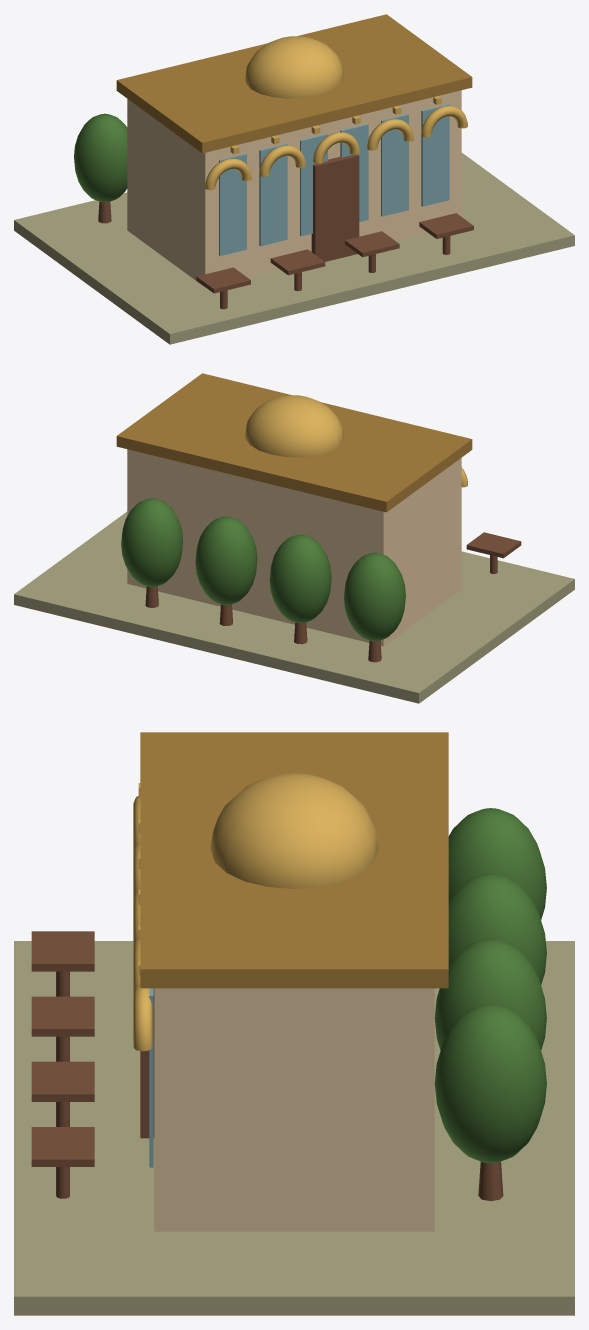
File: building.glb
3 renders of one model, top to bottom at view 1: azimuth 30°, elevation 25°; view 2: azimuth 150°, elevation 25°; view 3: azimuth 270°, elevation 25°, orthographic. The views are drawn at different scales.
Size of the model in its own units: 6 by 2.79 by 4.
